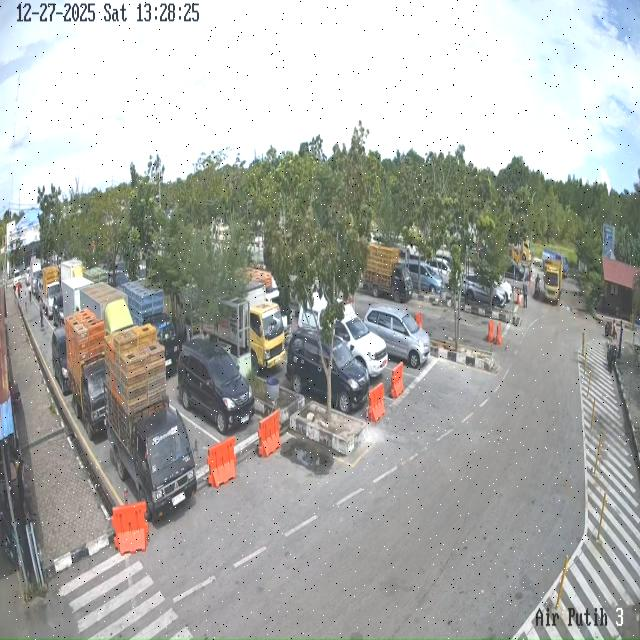Golongan IVA: (298, 292, 388, 378), (178, 339, 255, 435), (286, 328, 370, 413), (364, 304, 430, 368), (462, 274, 507, 308), (51, 327, 71, 395), (408, 260, 443, 294)
Golongan IVB: (105, 383, 196, 522), (63, 352, 106, 441), (363, 244, 413, 302)
Golongan VB: (202, 281, 286, 370), (543, 258, 564, 304)
